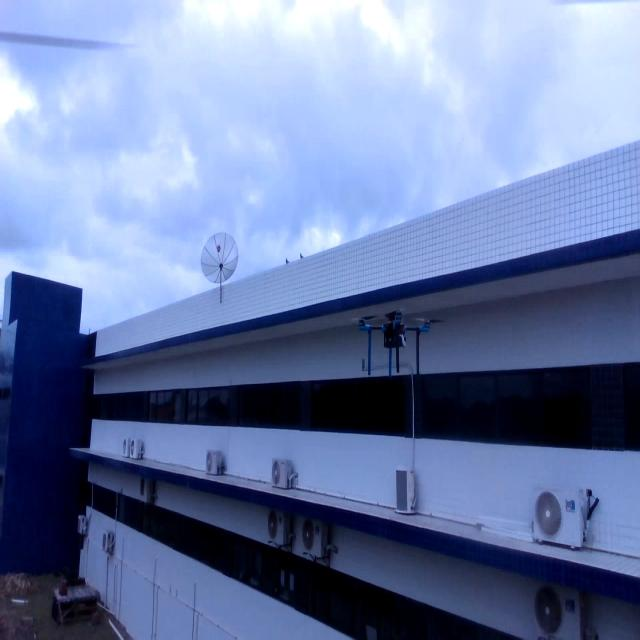-uav-: (348, 300, 434, 390)
